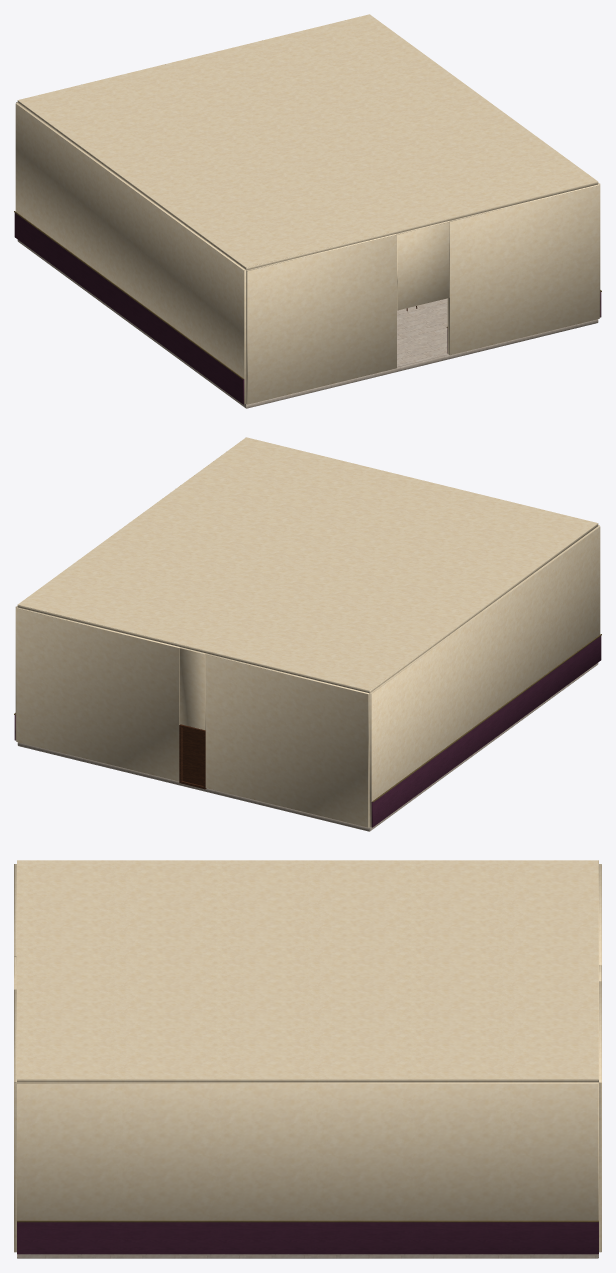
The model's file is explore3d__performance_stage.glb.
The picture shows the model from 3 angles, top to bottom: view 1: azimuth 30°, elevation 25°; view 2: azimuth 150°, elevation 25°; view 3: azimuth 270°, elevation 25°; orthographic projection. The views are drawn at different scales.
Parts seen in each view (by area): view 1: Rebuilt_performance_stage; view 2: Rebuilt_performance_stage; view 3: Rebuilt_performance_stage.
Boxes of the visible parts, x1=… form: Rebuilt_performance_stage: x1=14, y1=14, x2=601, y2=408; Rebuilt_performance_stage: x1=14, y1=437, x2=601, y2=831; Rebuilt_performance_stage: x1=14, y1=860, x2=601, y2=1258.
Size of the model in its own units: 16.32 by 6.14 by 18.19.
Materials: 14 (13 with a texture image).
